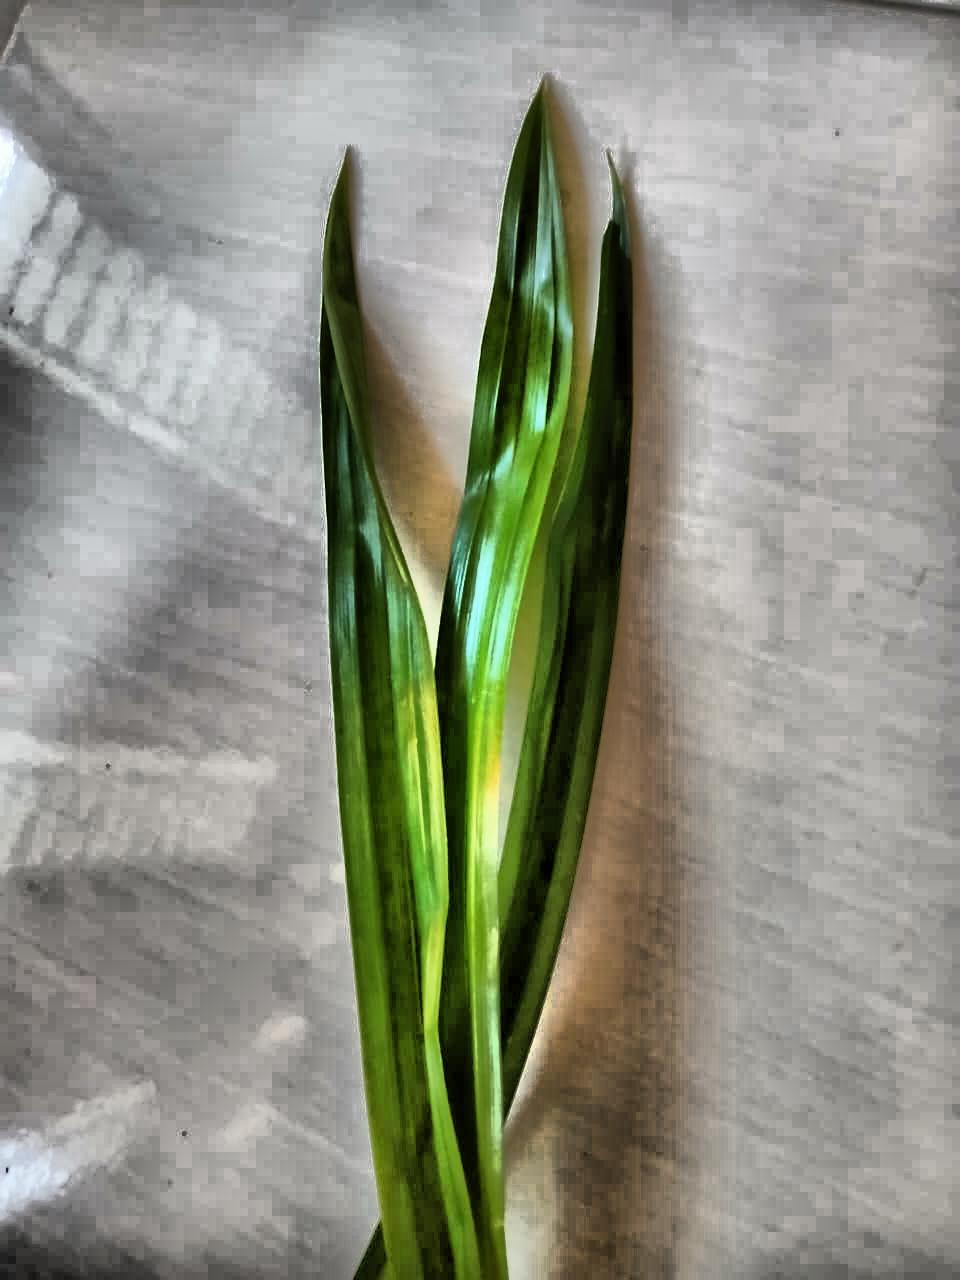daun pandan: (319, 85, 634, 1279)
